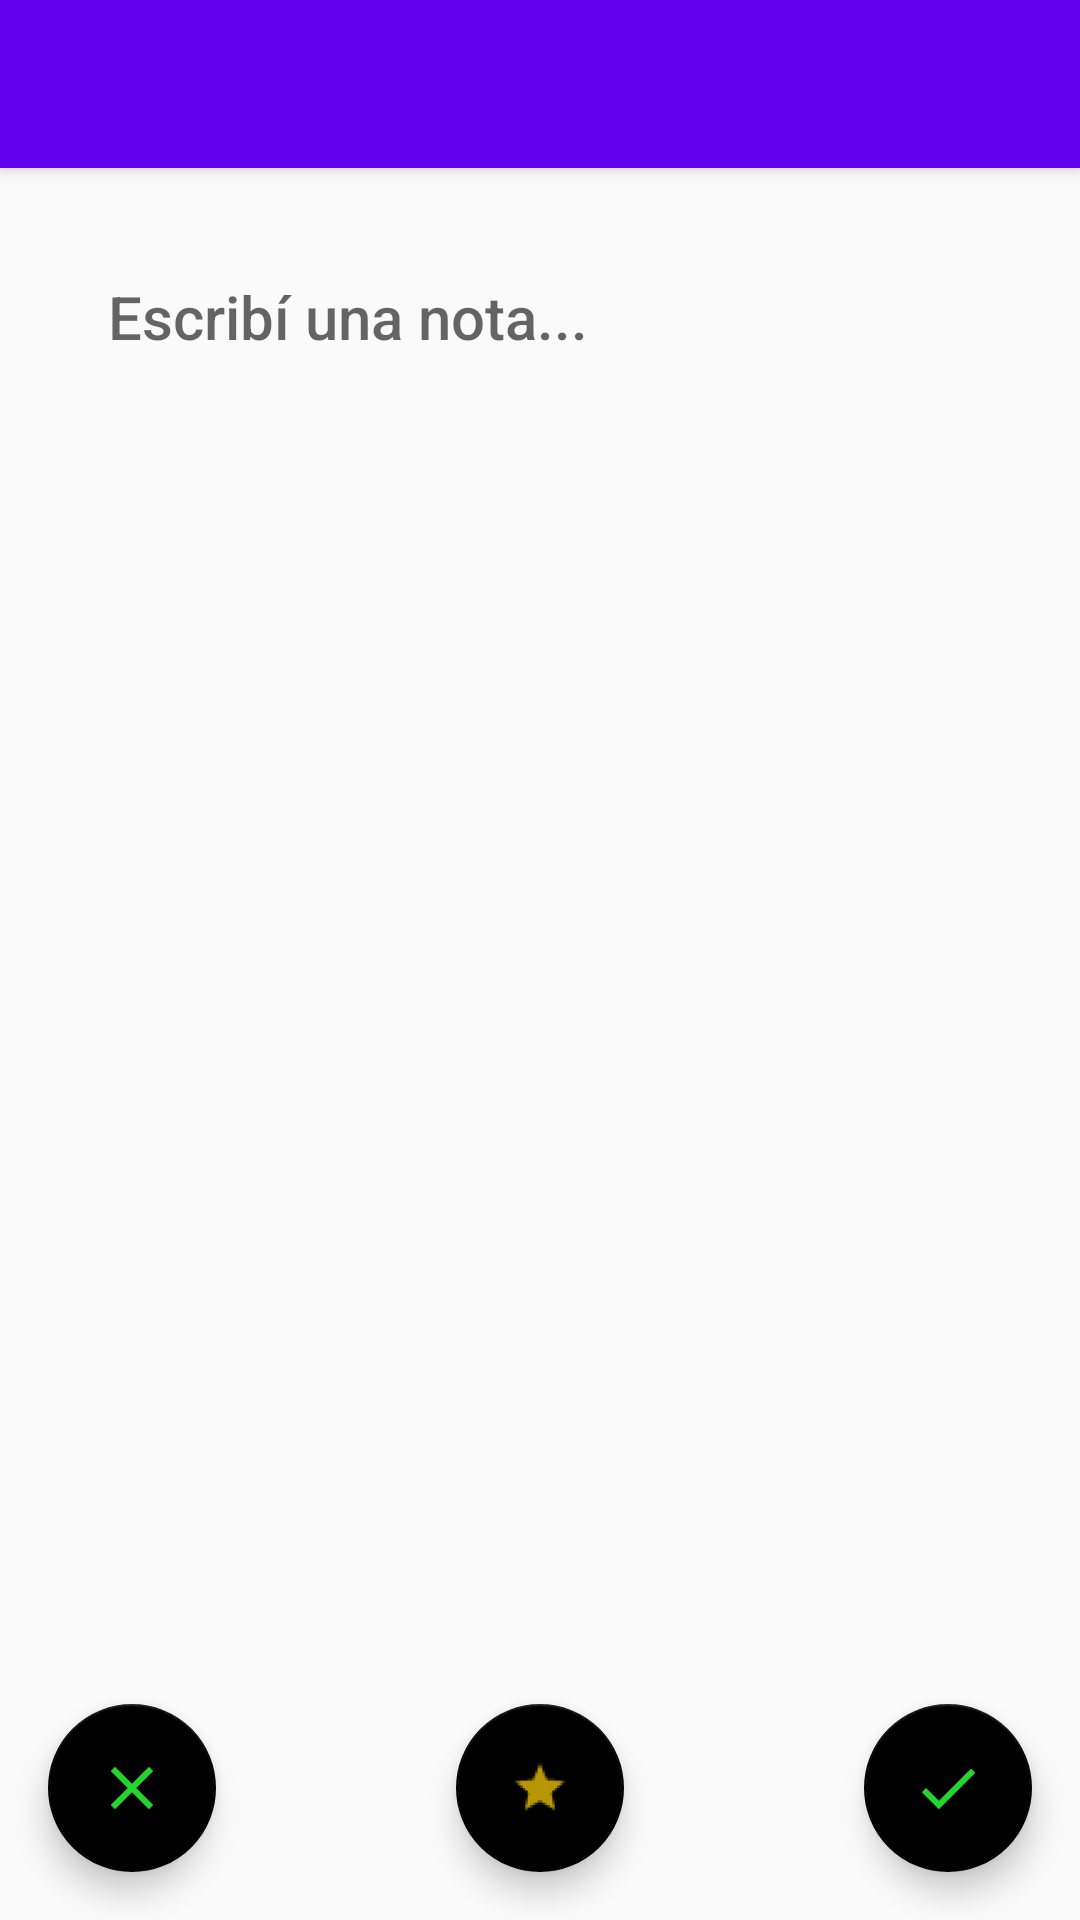

Icon click points for this 1080w x 1920h phone screenshot, format (x,y):
cancelar: (132,1788)
favorito full: (540,1788)
listo: (948,1788)
